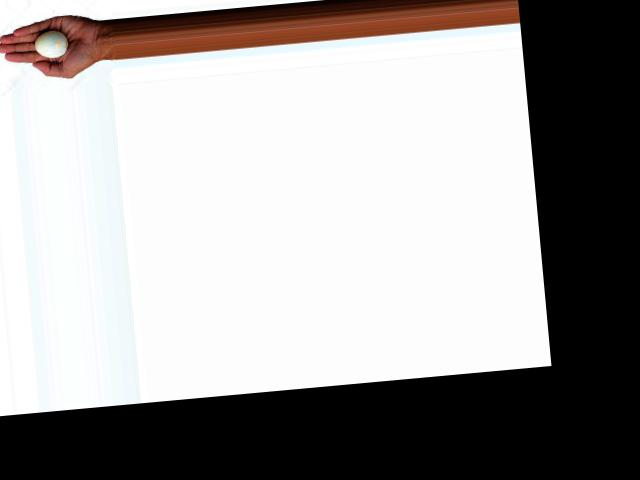egg: (32, 29, 68, 58)
